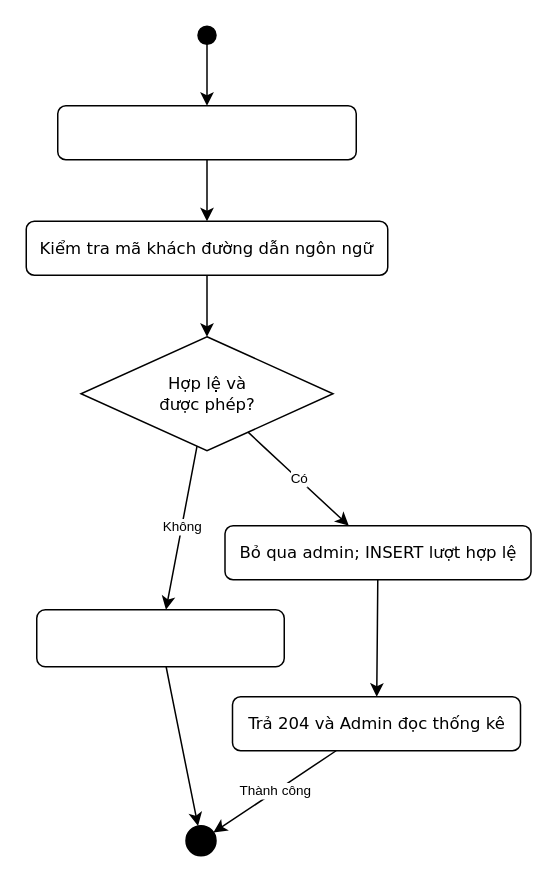
Image size: 558x882. Some labels were removed from this diagram. The centre of each missing label's shape, as x and y in pixels:
Mở trang hoặc liên kết QR guest: the point at 206,132
Thông báo lỗi Không báo lưu thành công: the point at 159,637
